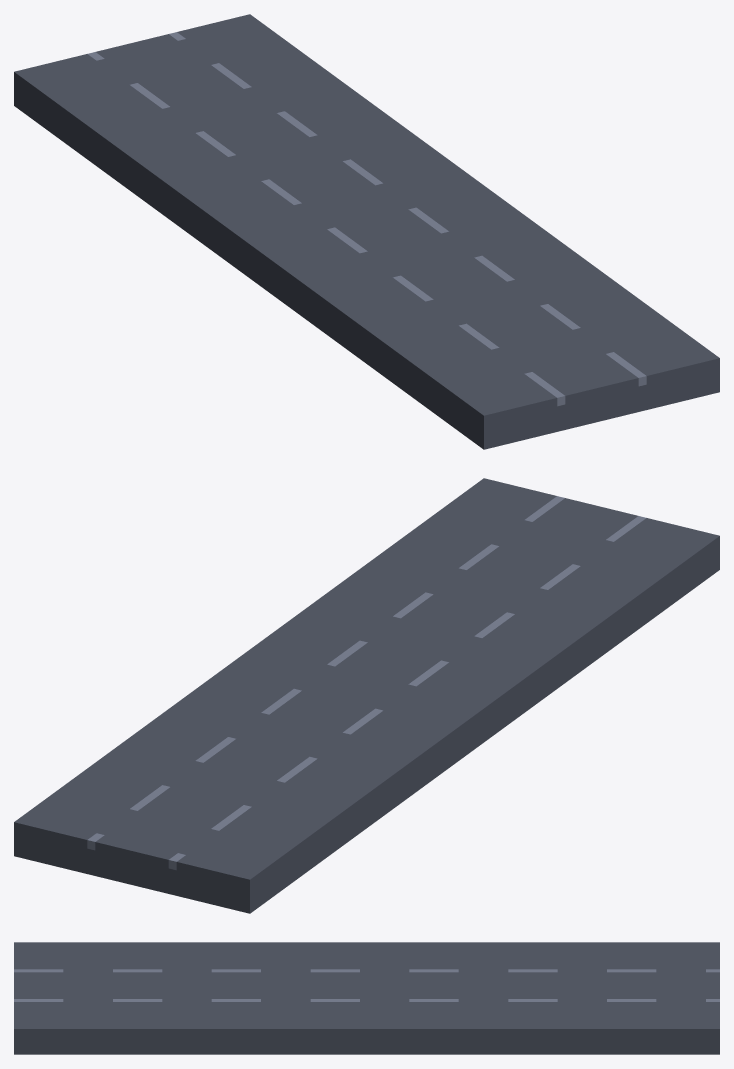
Rendered from roadthree.obj.
The picture shows the model from 3 angles, top to bottom: view 1: azimuth 30°, elevation 25°; view 2: azimuth 150°, elevation 25°; view 3: azimuth 270°, elevation 25°; orthographic projection. The views are drawn at different scales.
Size of the model in its own units: 29 by 4 by 100.
Materials: 1 (1 with a texture image).
